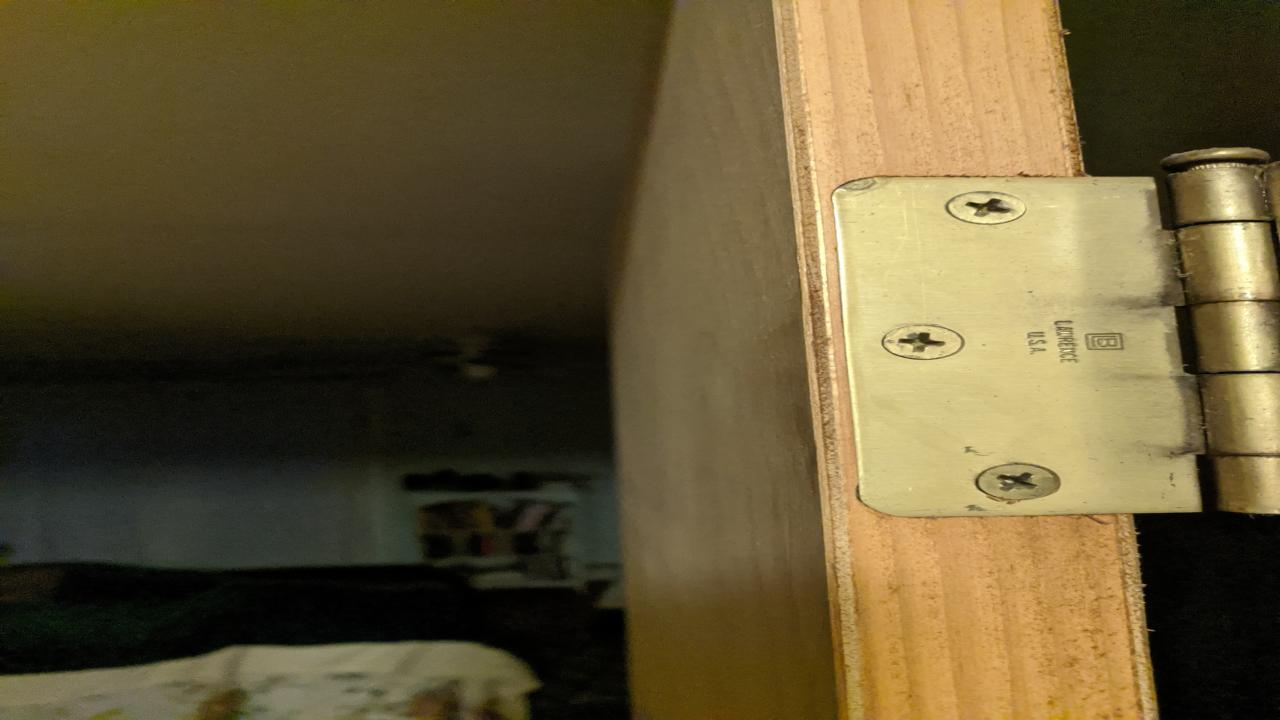CRS: (876, 323, 970, 364), (974, 461, 1062, 500), (945, 190, 1033, 227)
